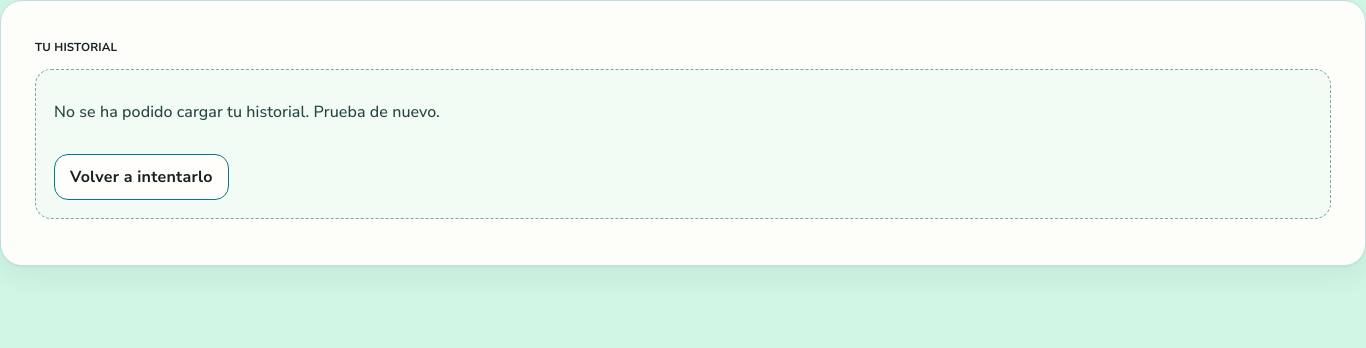
Scenario: WorstIdeasUser › rejects malformed responses and provides a retry action
The image size is (1366, 348).
Check: the message shows "No se ha podido cargar tu historial", box top-left (54, 101), bottom-right (440, 123)
Click the button "Volver a intentarlo": (141, 177) top-left (54, 154), bottom-right (229, 200)
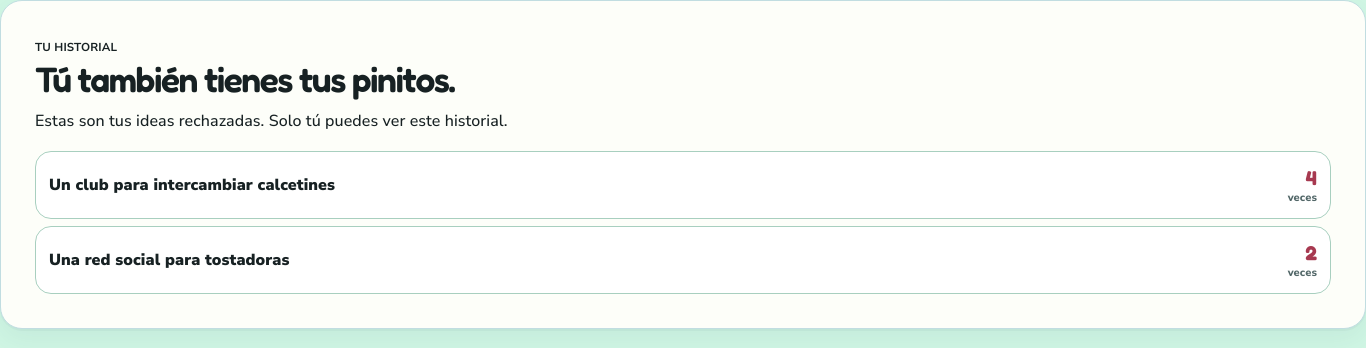
Check: the text "Un club para intercambiar calcetines" is shown, box top-left (49, 174), bottom-right (335, 196)
